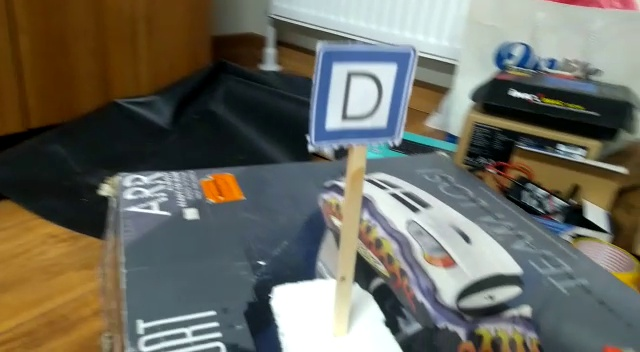durak: (322, 56, 389, 132)
